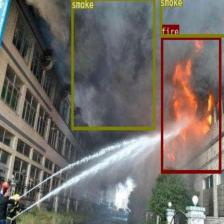fire: (161, 36, 221, 172)
smoke: (71, 0, 155, 130), (159, 0, 224, 36)
